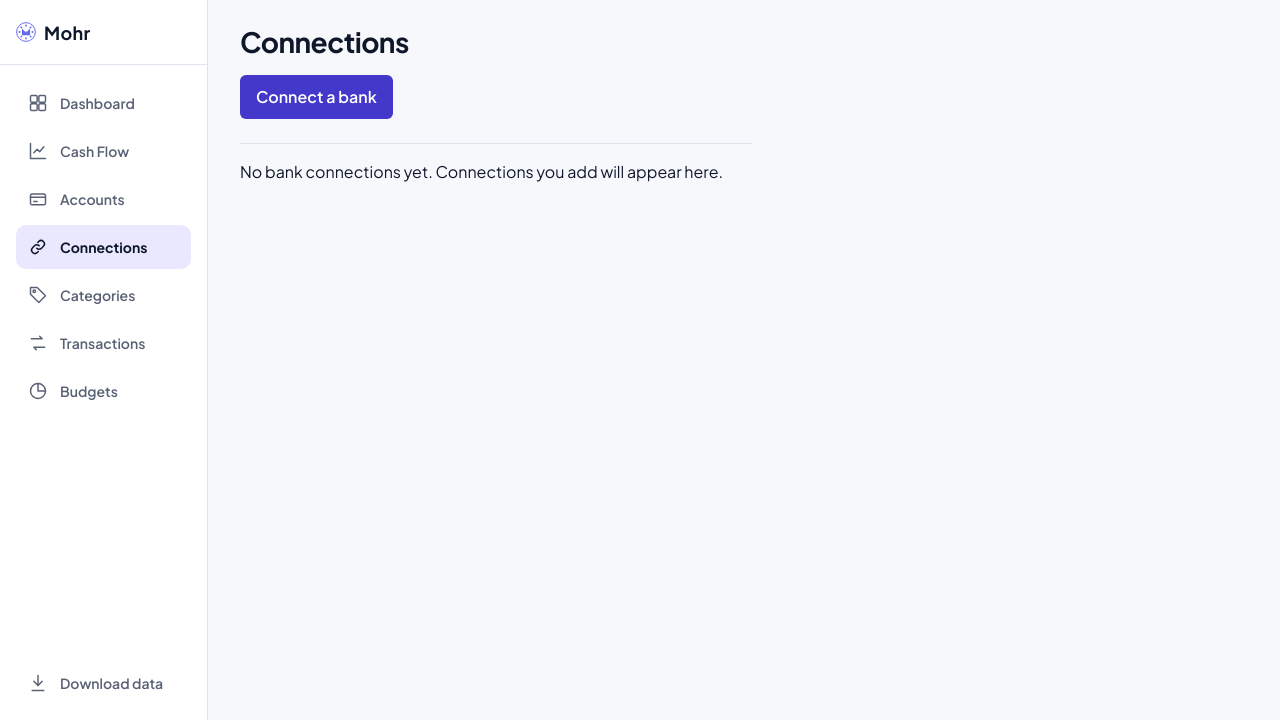
Test case: connect bank exchange and first sync › renders an honest completion summary built only from the validated counts
Expected: the text "No bank connections yet" is shown, 240,161 -> 723,182
Click the button "Connect a bank" at [316, 97], box 240,75 -> 393,119
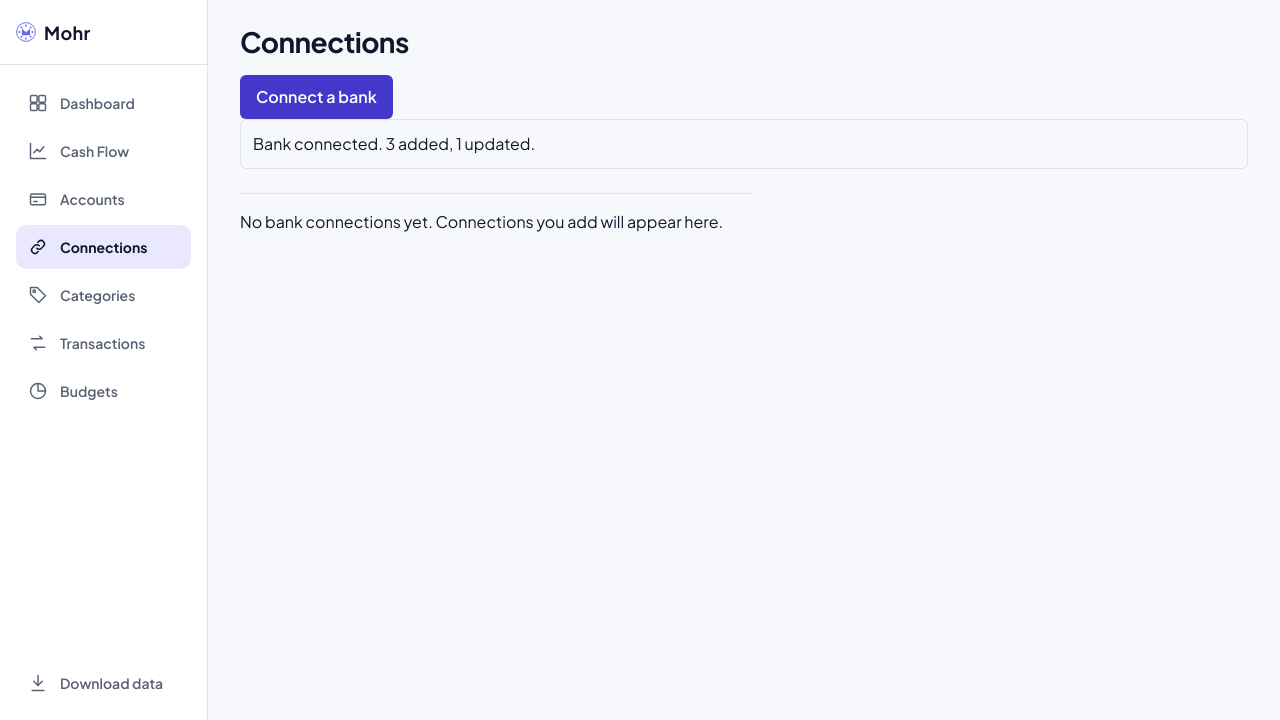
Now the text "Bank connected. 3 added, 1 updated." is shown, box 240,119 -> 1248,169
